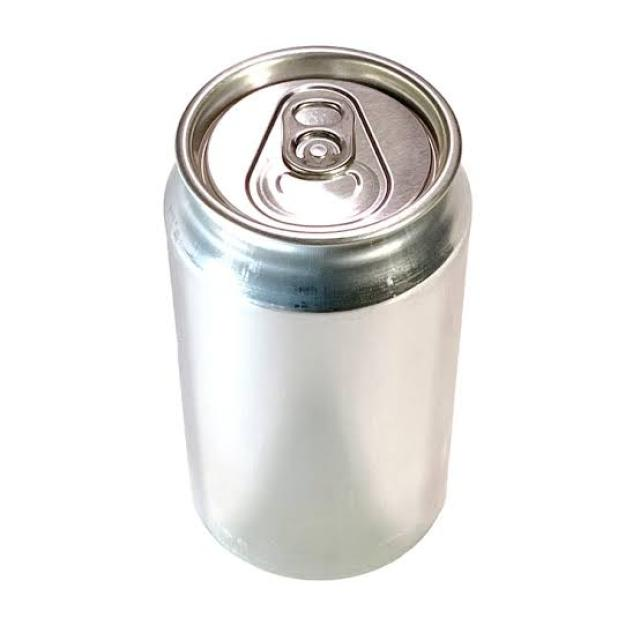can: (134, 46, 474, 580)
